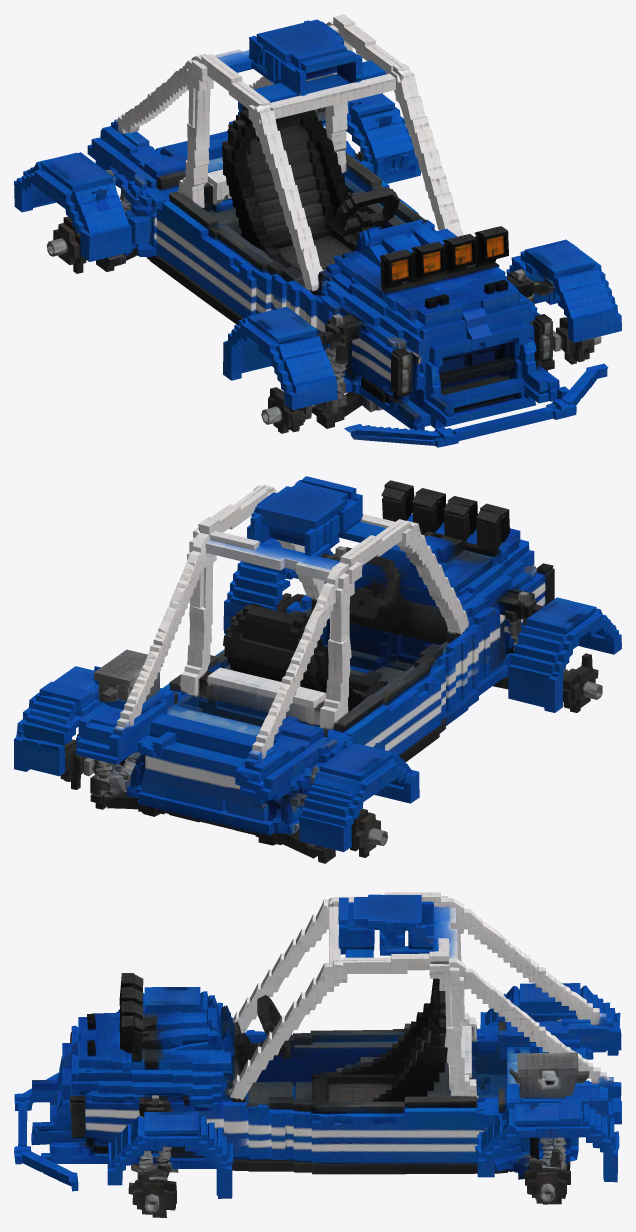
File: blue-rally.glb
3 views of the same model, one above another, from view 1: azimuth 30°, elevation 25°; view 2: azimuth 150°, elevation 25°; view 3: azimuth 270°, elevation 25° (orthographic). The views are drawn at different scales.
Visible parts, largest first — view 1: model; view 2: model; view 3: model.
Boxes of the visible parts, left/top/right/bottom form: model: left=14, top=14, right=621, bottom=447; model: left=14, top=476, right=621, bottom=863; model: left=14, top=892, right=621, bottom=1217.
Size of the model in its own units: 1.1 by 0.8401 by 1.89.
1 material, 1 textured.
